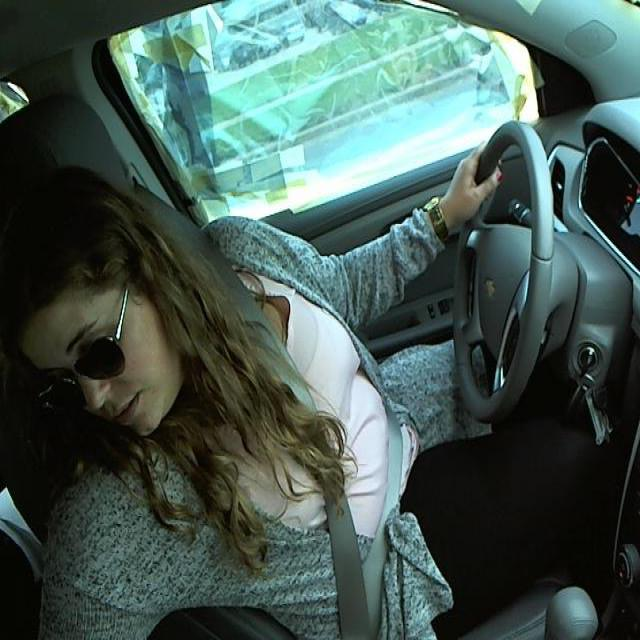seatbelt: (180, 255, 364, 622)
